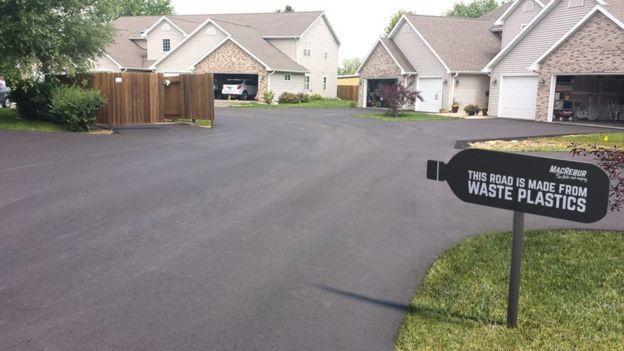house: (353, 0, 624, 118), (133, 5, 342, 99)
indicator: (453, 148, 602, 227)
